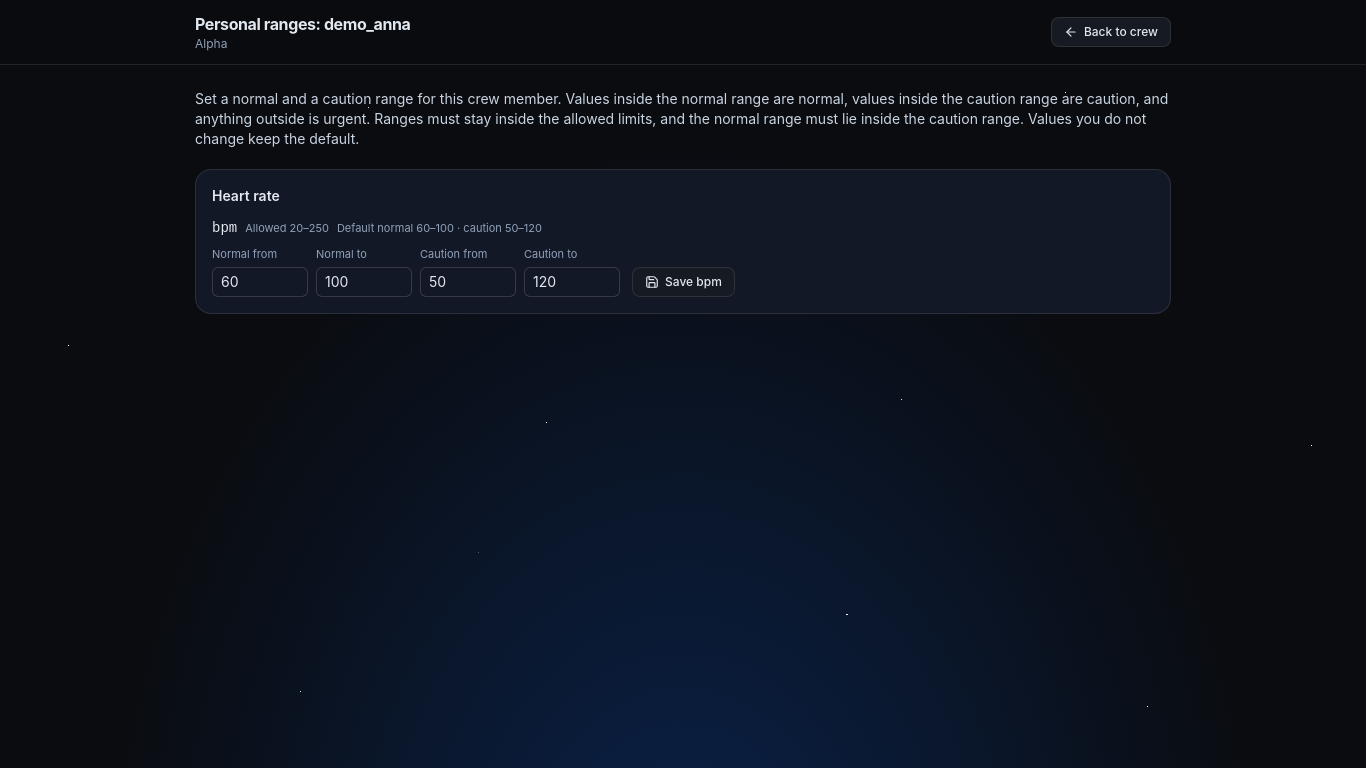
it: PersonalRangesPanel › does not save when a box is empty
Expected: the text "Default normal 60–100 · caution 50–120" is shown, [337, 220, 542, 236]
Clear the number field named "Heart rate bpm caution from" at (468, 282), box [420, 266, 516, 296]
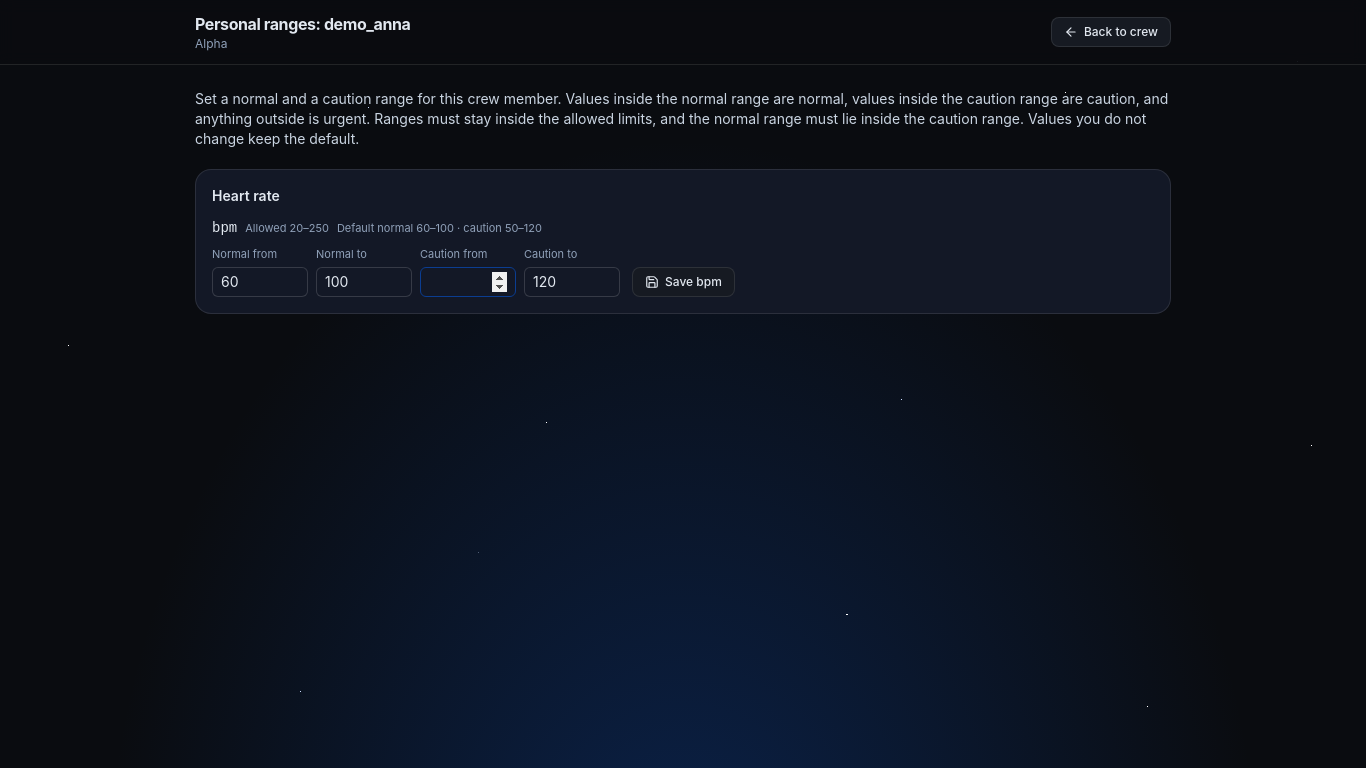
Click the button "Save bpm" at (683, 282), box [632, 266, 735, 296]
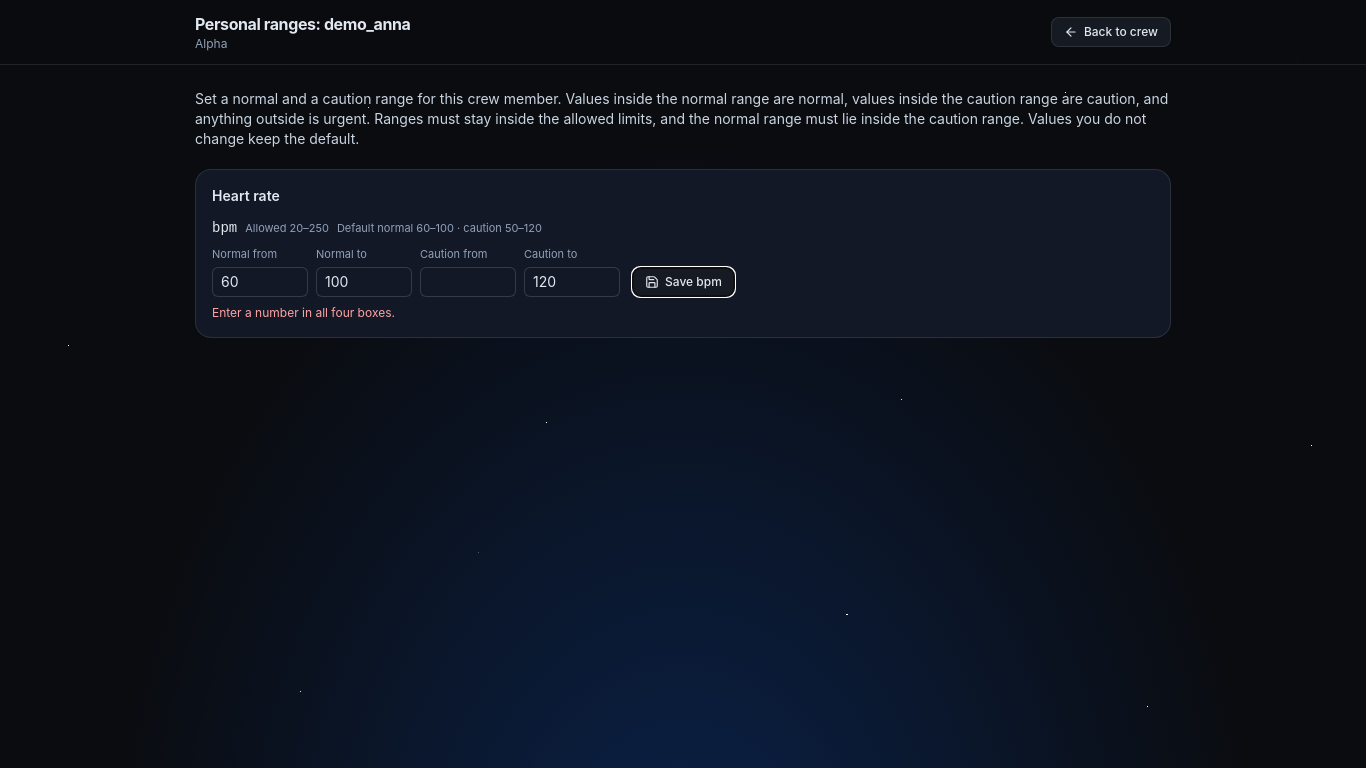
Expected: the text "Enter a number in all four boxes." is shown, [212, 304, 395, 320]
